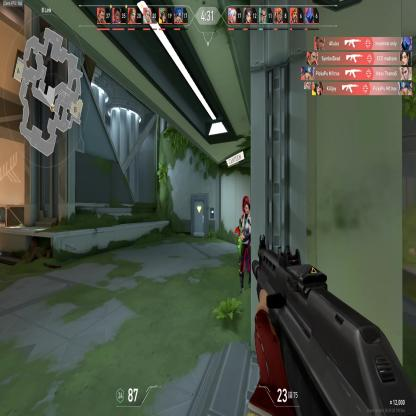enemy: (234, 194, 250, 298)
